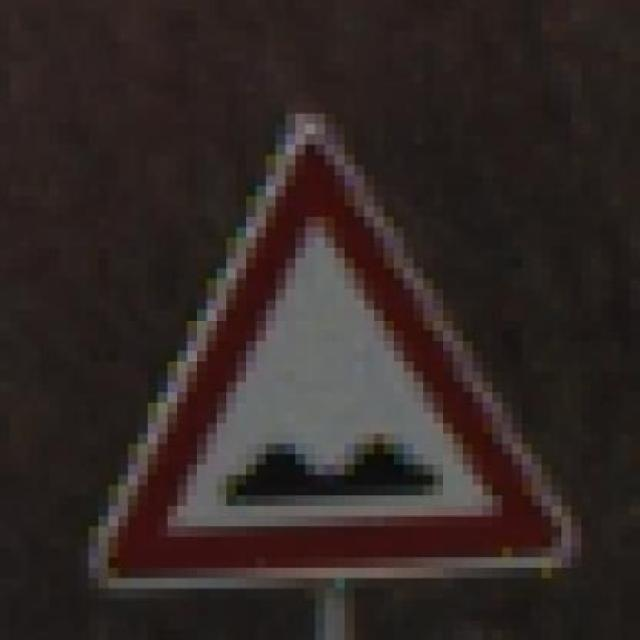Uneven Road: (88, 93, 581, 589)
